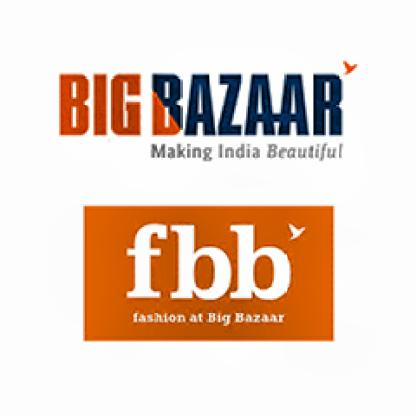Fbb: (122, 221, 307, 305)
